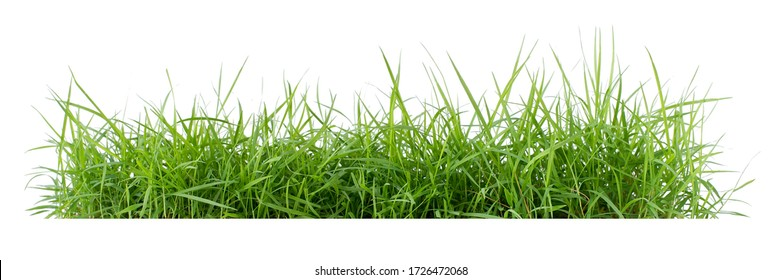grass: (73, 143, 701, 216)
